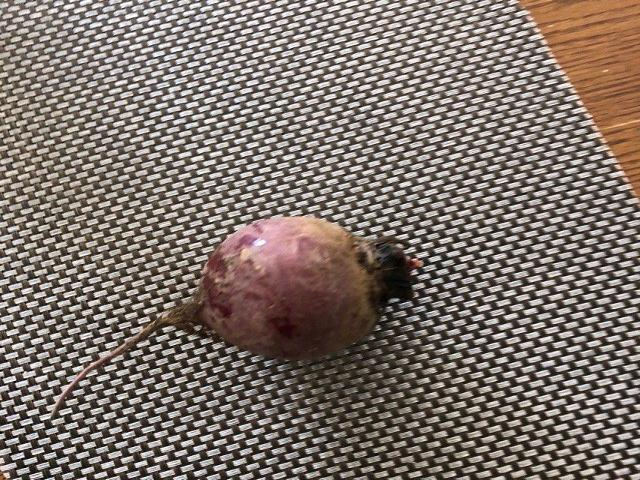beet: (48, 218, 423, 418)
